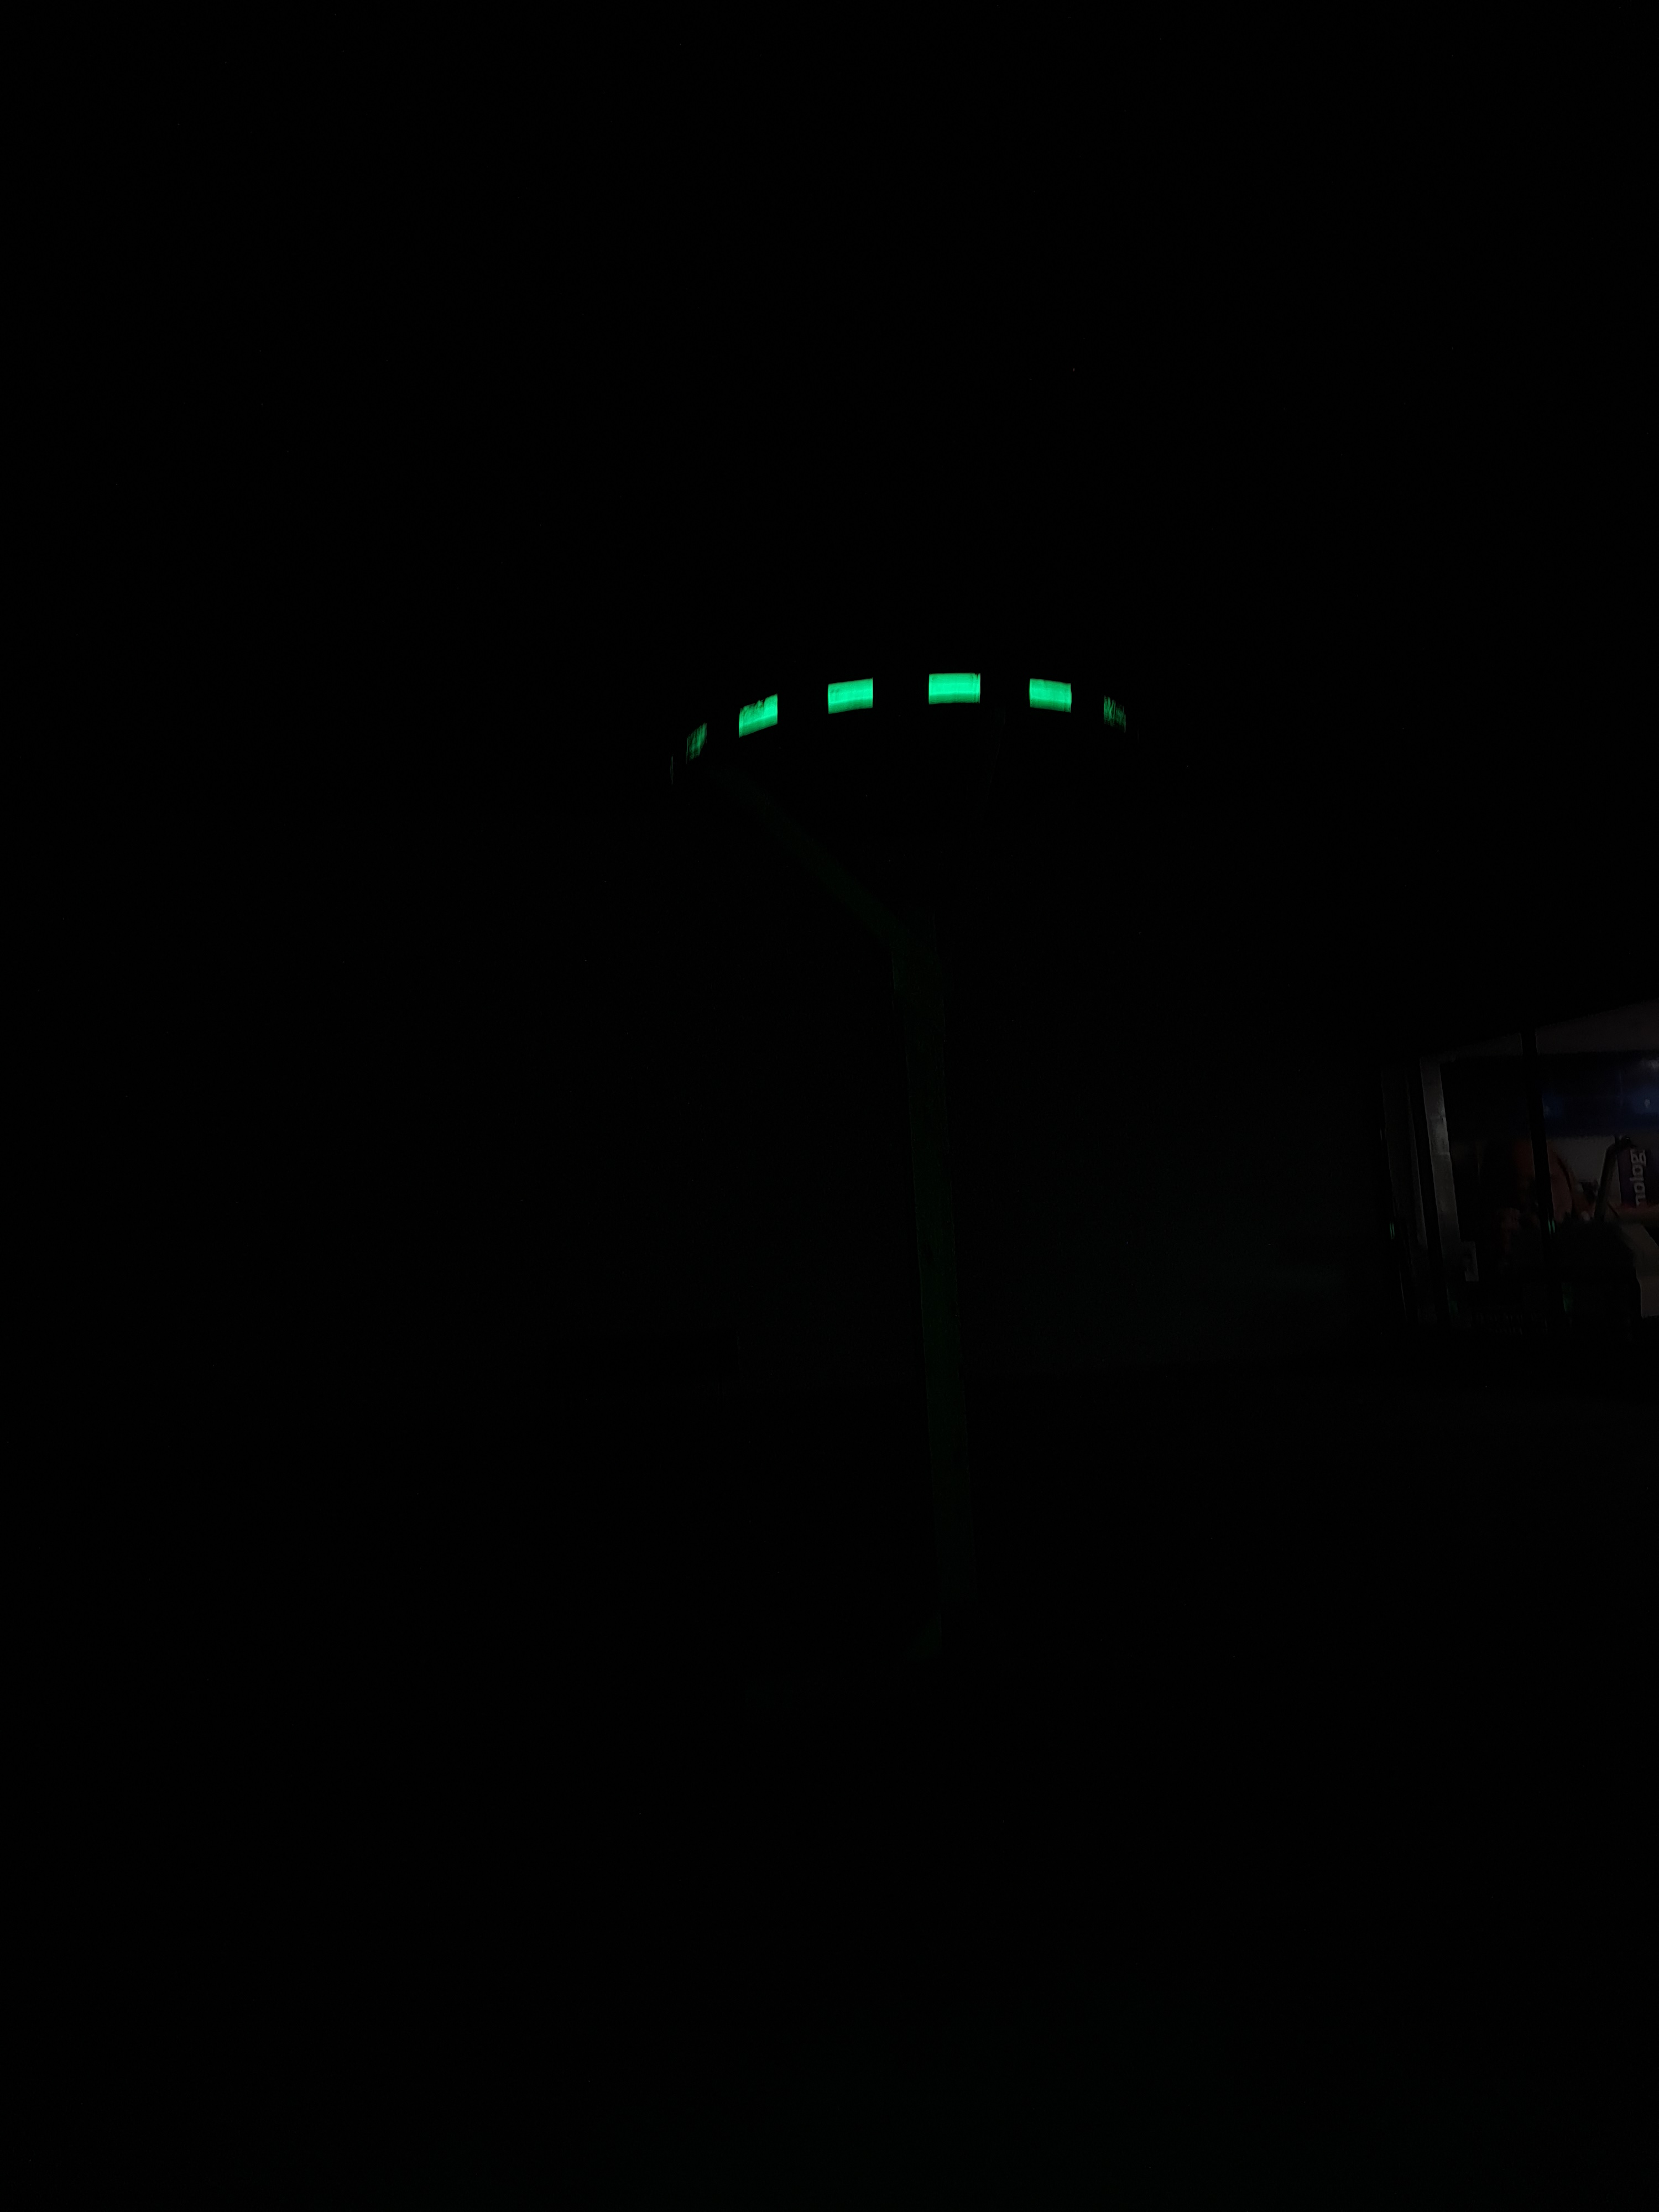hoop: (622, 665, 1168, 763)
